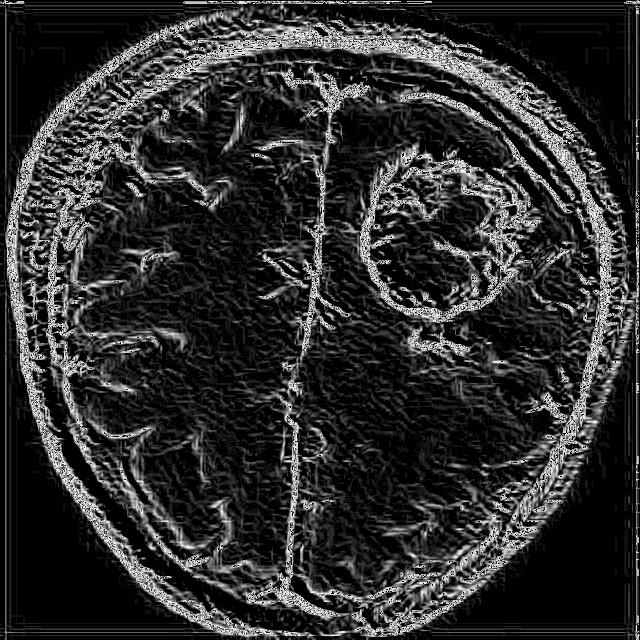Brain-Tumor: (346, 132, 553, 337)
